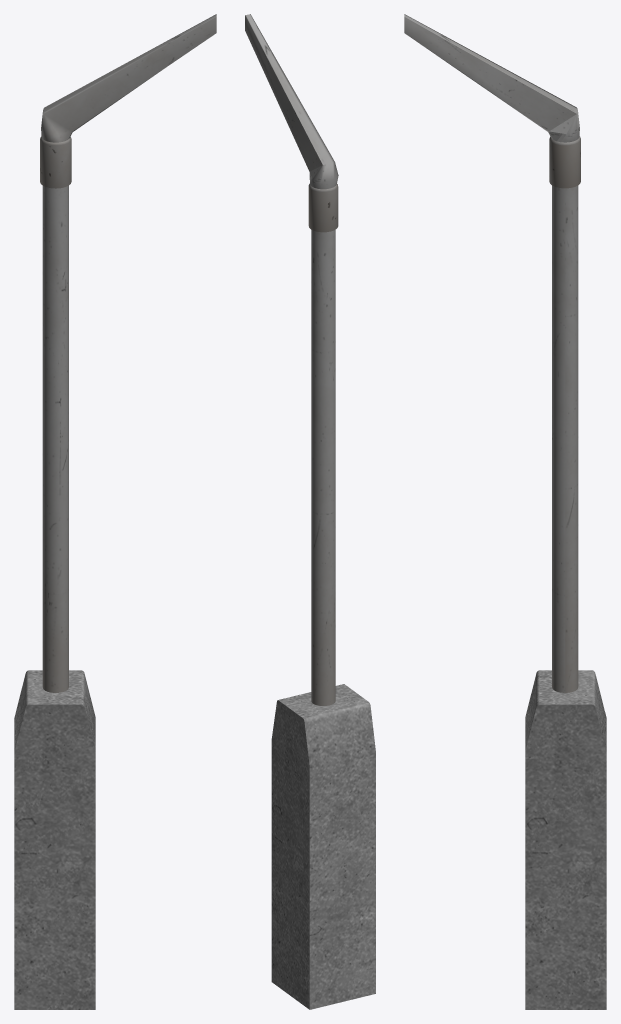
The model's file is sao.glb.
3 views of the same model, side by side, from view 1: azimuth 90°, elevation 25°; view 2: azimuth 210°, elevation 25°; view 3: azimuth 270°, elevation 25° (orthographic). The views are drawn at different scales.
Parts seen in each view (by area): view 1: SinglePost_Wall_Barbwire; view 2: SinglePost_Wall_Barbwire; view 3: SinglePost_Wall_Barbwire.
Part boxes in pixels (x1=…): SinglePost_Wall_Barbwire: x1=14, y1=14, x2=216, y2=1009; SinglePost_Wall_Barbwire: x1=245, y1=14, x2=375, y2=1009; SinglePost_Wall_Barbwire: x1=404, y1=14, x2=606, y2=1009.
Size of the model in its own units: 0.2 by 2.65 by 0.4971.
Materials: 1 (1 with a texture image).
